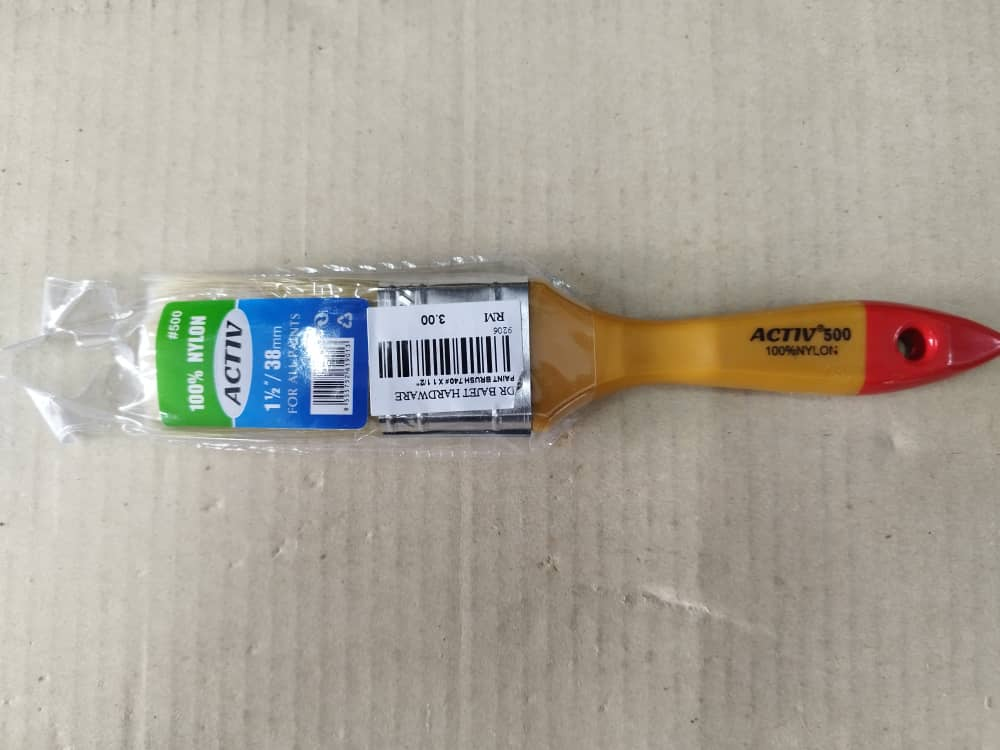sku_small_brush: (121, 250, 990, 447)
